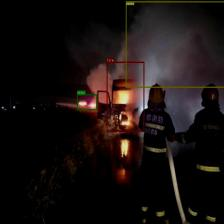fire: (106, 62, 144, 131)
smoke: (125, 1, 224, 88)
